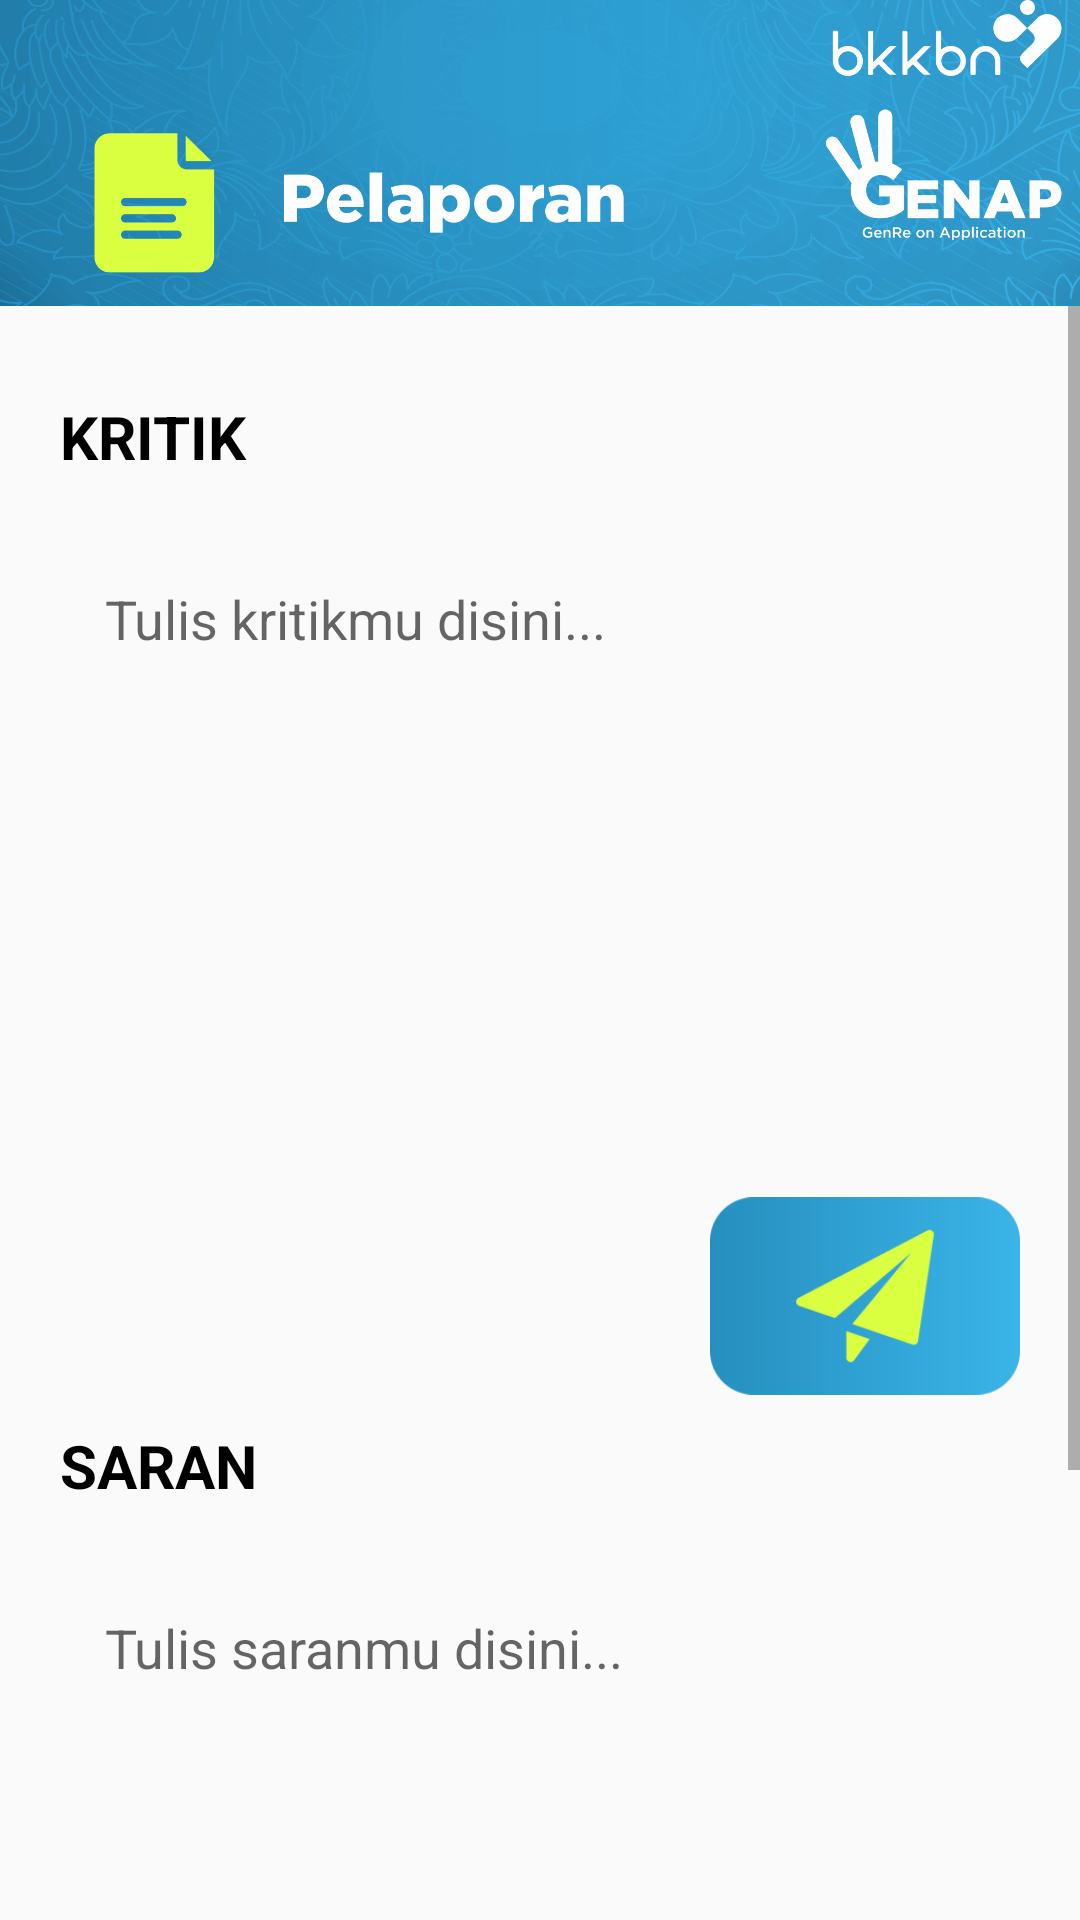

Where to tap for icons on this 1080px×1920px app screen, as (x=x, y=y):
kirim: (x=865, y=1296)
